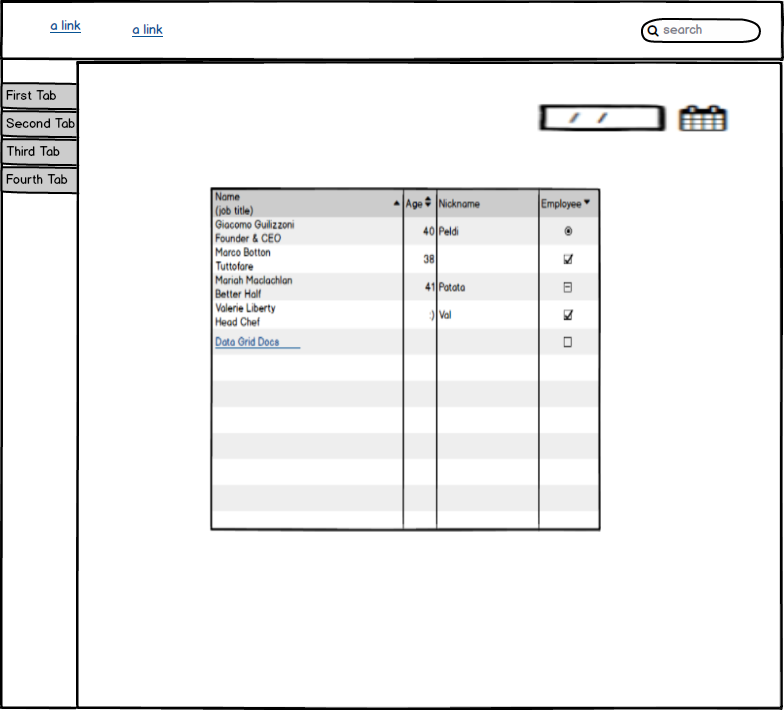date_picker: (531, 96, 739, 141)
navlink: (37, 10, 90, 40), (122, 17, 170, 41)
search: (635, 12, 767, 48)
sidebar: (1, 81, 81, 204)
table: (204, 182, 608, 533)
